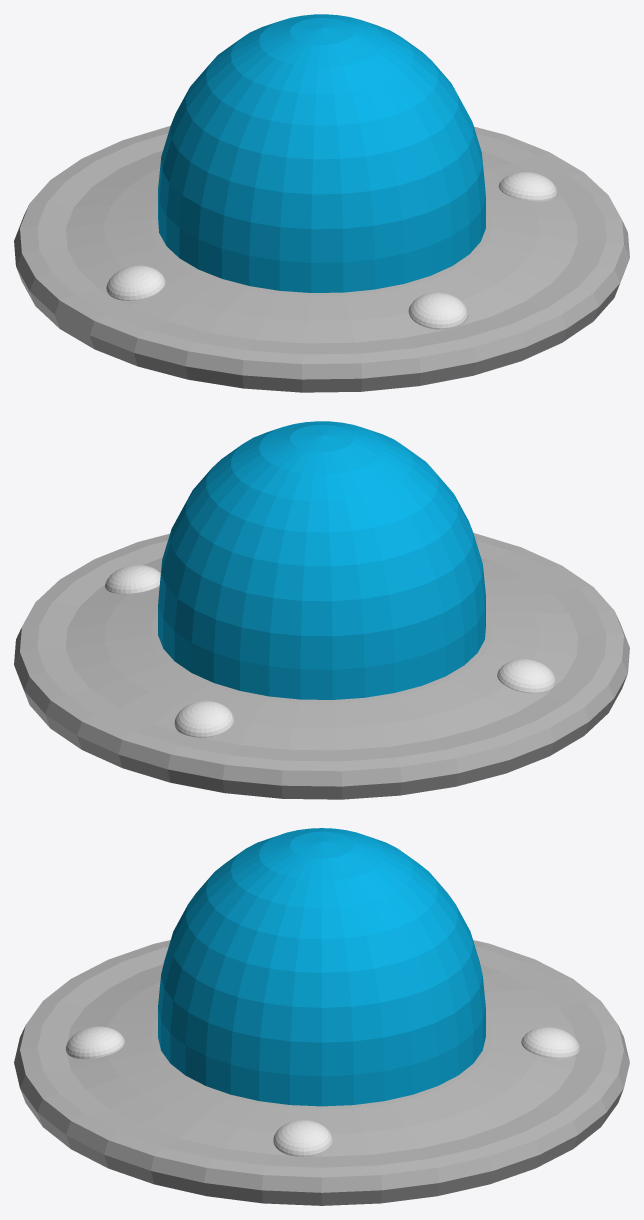
The model's file is Nave001.1.fbx.
3 views of the same model, one above another, from view 1: azimuth 30°, elevation 25°; view 2: azimuth 150°, elevation 25°; view 3: azimuth 270°, elevation 25° (orthographic).
Visible parts, largest first — view 1: Sphere.001, Sphere, Sphere.004, Sphere.006, Sphere.005; view 2: Sphere.001, Sphere, Sphere.003, Sphere.006, Sphere.005; view 3: Sphere.001, Sphere, Sphere.005, Sphere.004, Sphere.003.
Part boxes in pixels (left/top/right/bottom): Sphere.001: left=14, top=126, right=629, bottom=392; Sphere: left=158, top=14, right=485, bottom=292; Sphere.004: left=408, top=292, right=468, bottom=329; Sphere.006: left=106, top=265, right=165, bottom=300; Sphere.005: left=498, top=172, right=557, bottom=201; Sphere.001: left=14, top=533, right=629, bottom=799; Sphere: left=158, top=421, right=485, bottom=699; Sphere.003: left=174, top=701, right=234, bottom=737; Sphere.006: left=497, top=659, right=556, bottom=693; Sphere.005: left=105, top=565, right=160, bottom=593; Sphere.001: left=14, top=940, right=629, bottom=1205; Sphere: left=158, top=828, right=485, bottom=1106; Sphere.005: left=273, top=1120, right=332, bottom=1156; Sphere.004: left=65, top=1026, right=124, bottom=1059; Sphere.003: left=521, top=1027, right=580, bottom=1059.
Size of the model in its own units: 376 by 189 by 376.
